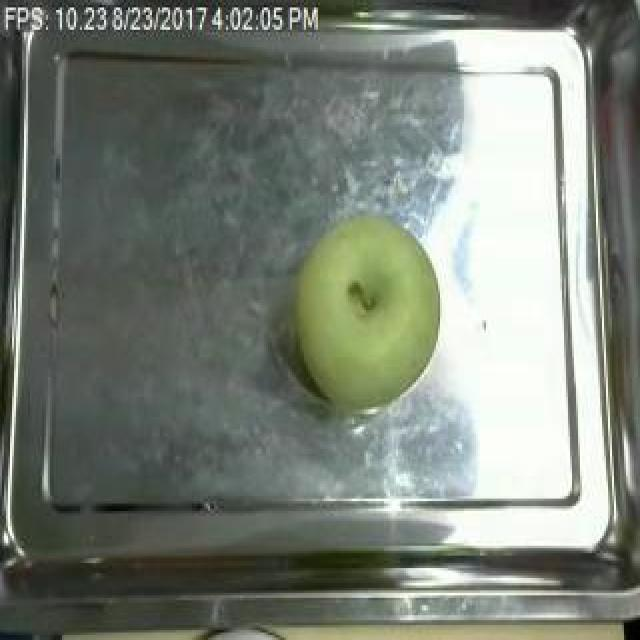Rotten Apple: (293, 210, 457, 418)
